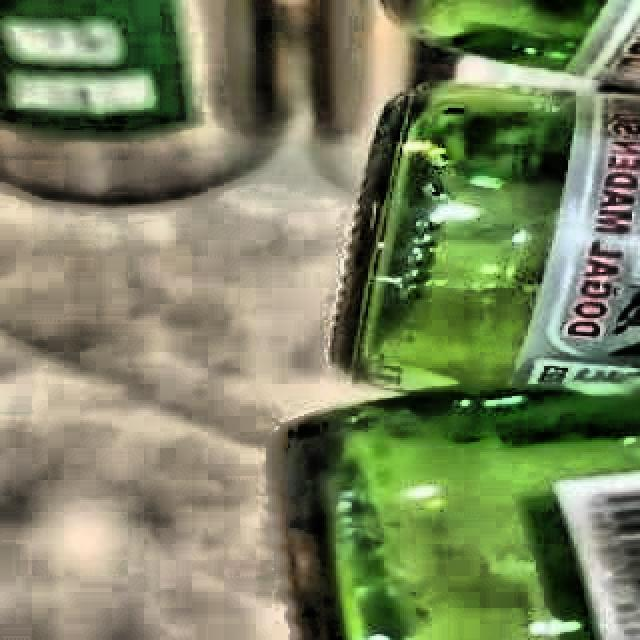glass: (272, 0, 640, 640)
